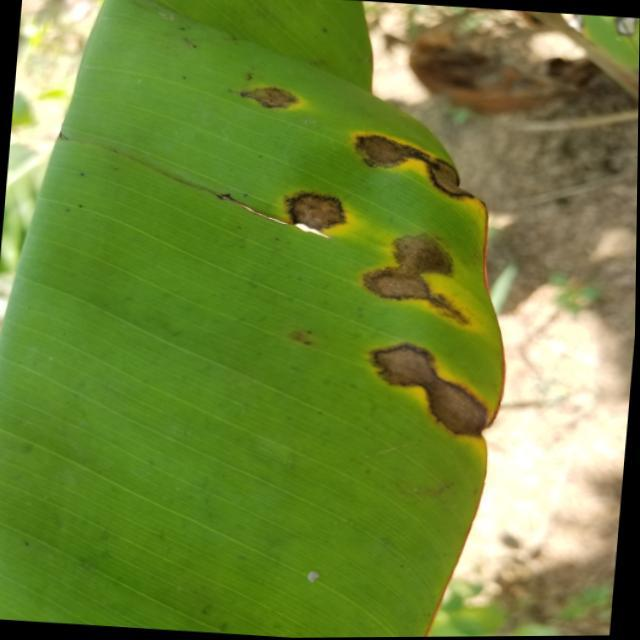Early_rust: (188, 35, 550, 502)
